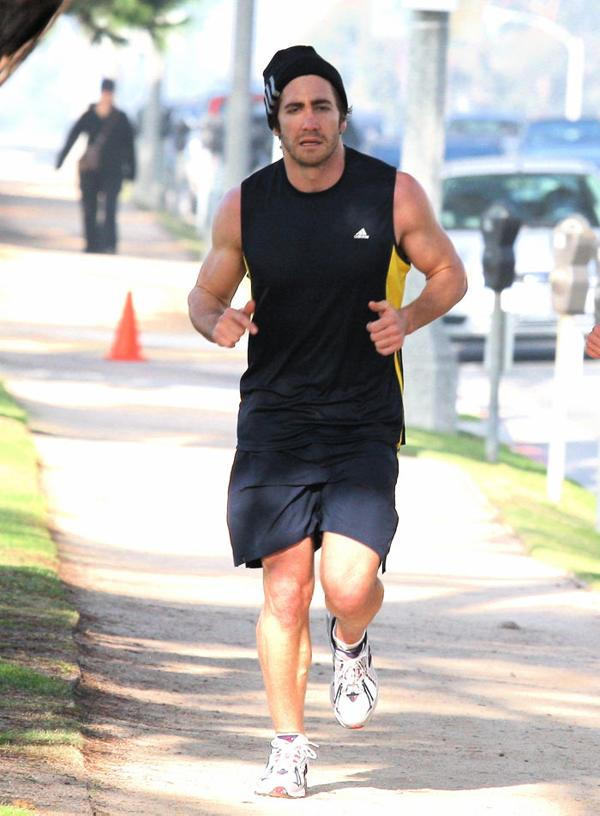person: (186, 42, 472, 795)
